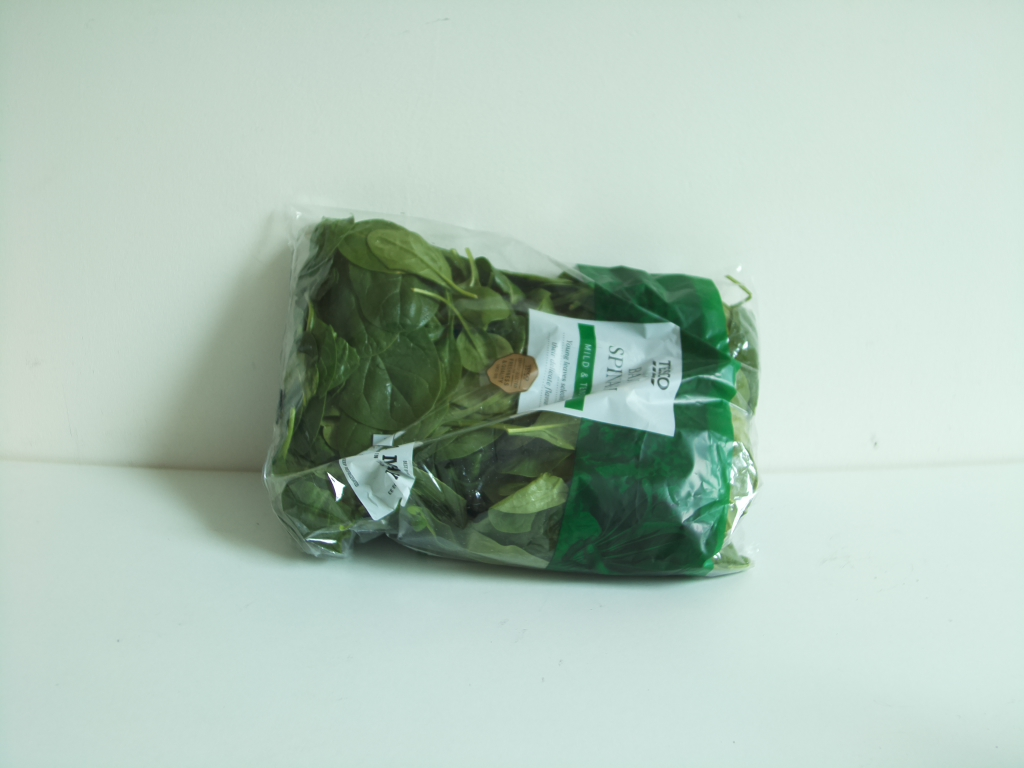salad: (270, 219, 763, 580)
